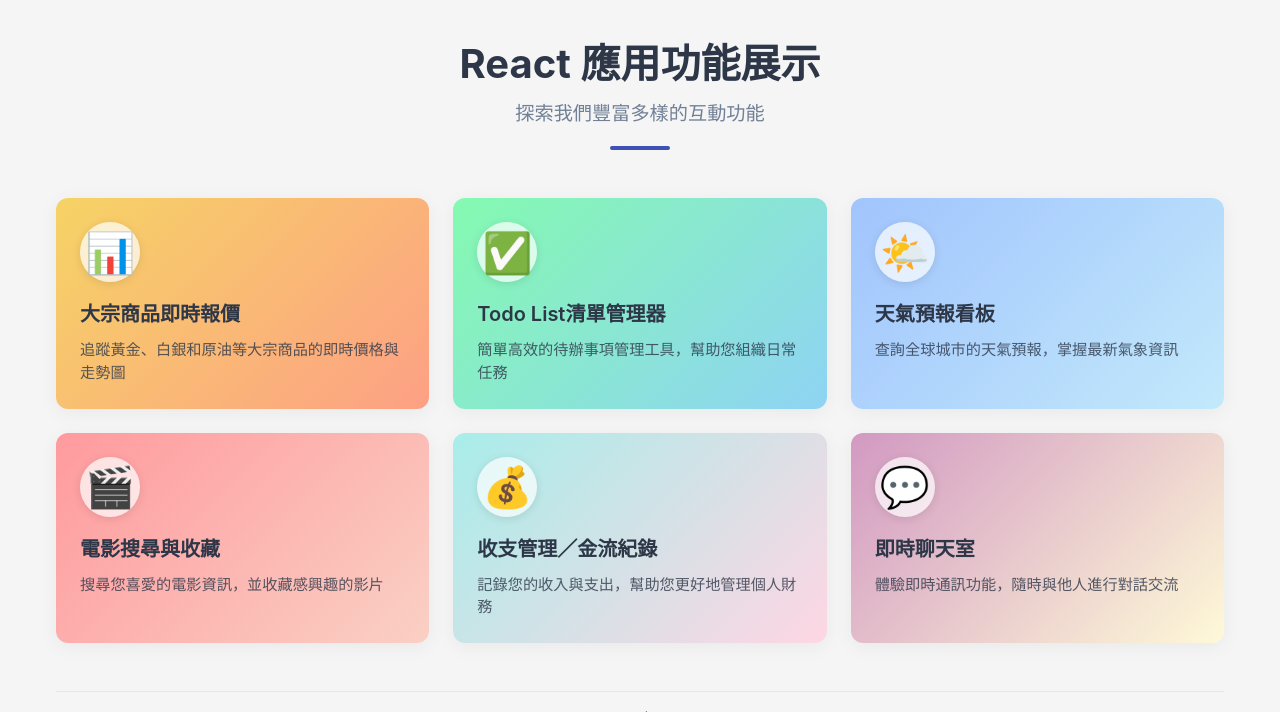
Test case: MovieSearch 功能測試 › 處理錯誤狀態
Click the link "🎬 電影搜尋與收藏 搜尋您喜愛的電影資訊，並收藏感興趣的影片" at [110, 487], box x1=56 y1=433 x2=429 y2=644
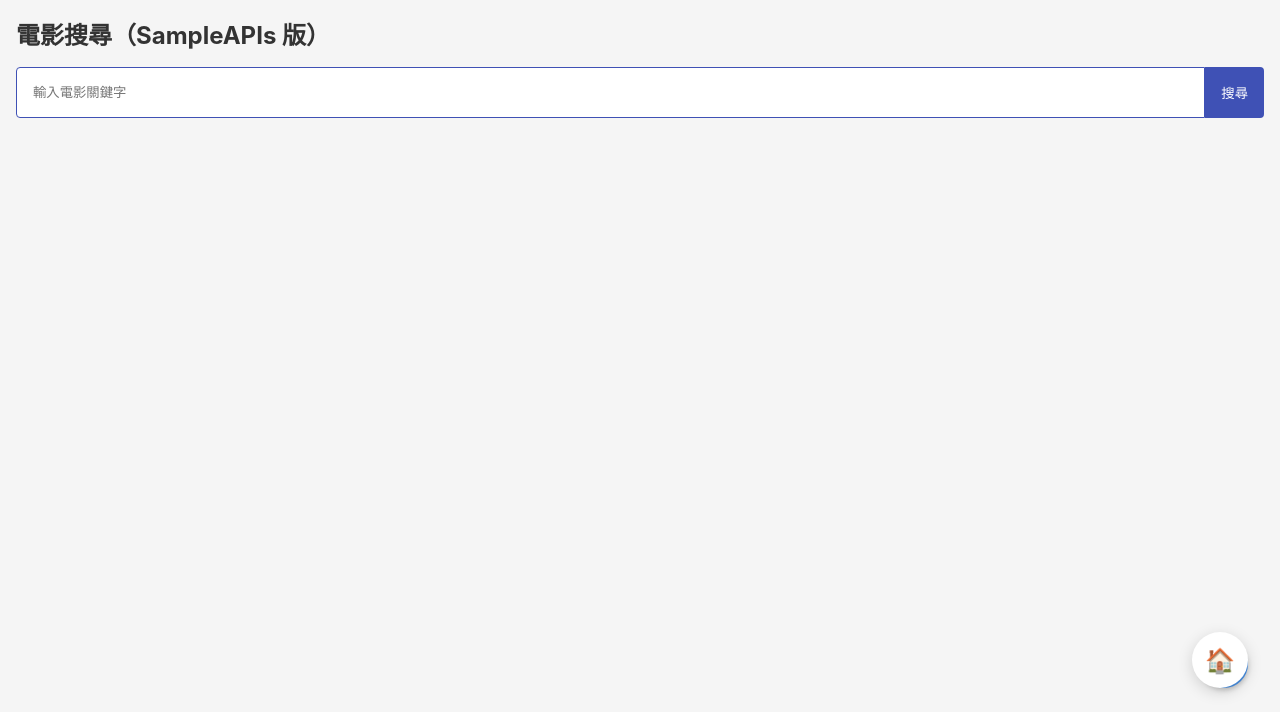
Type "Error Test" into the field with class "movie-search-input" at [611, 93], box x1=16 y1=67 x2=1205 y2=118
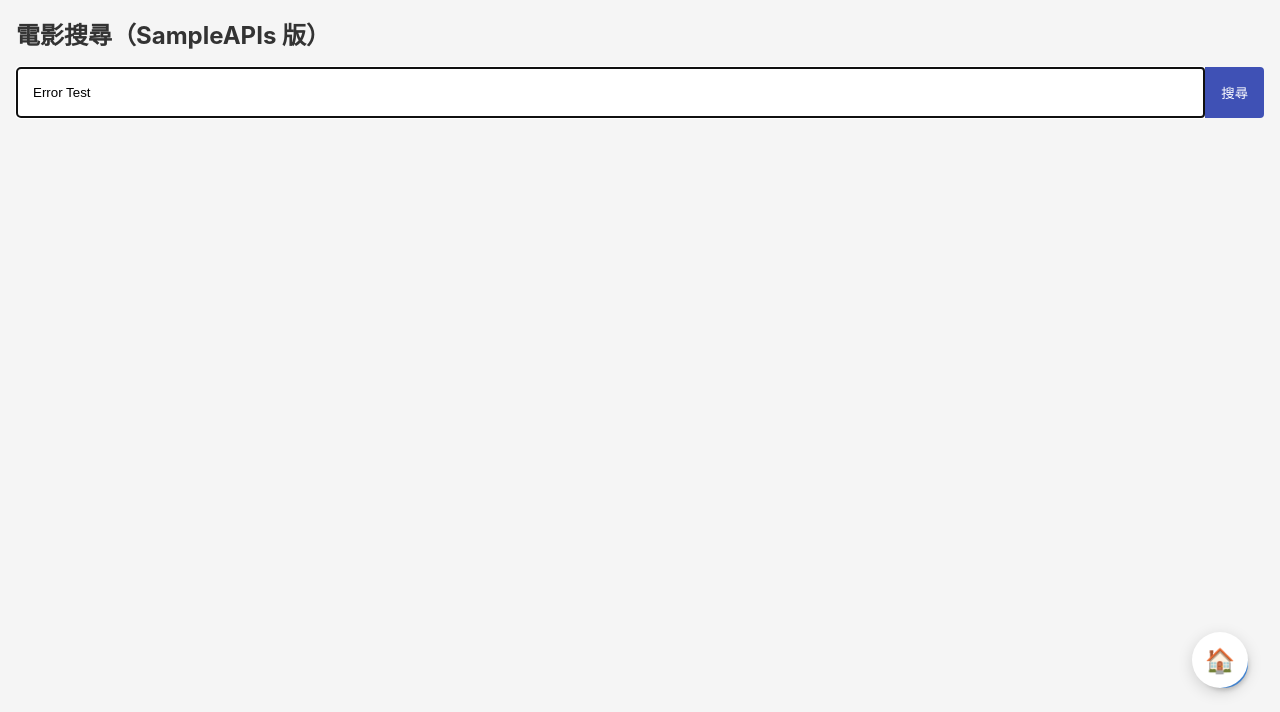
Click the button "搜尋" at [1235, 93], box x1=1205 y1=67 x2=1264 y2=118
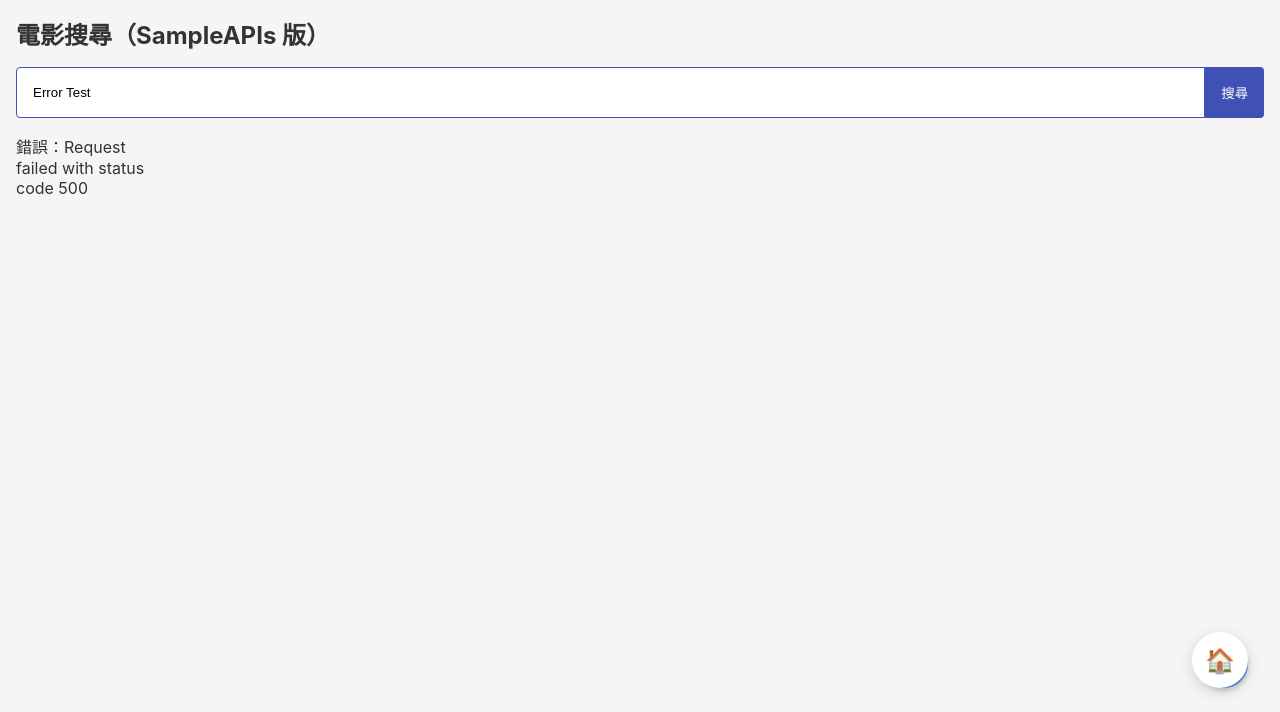
Check: the text "錯誤" is shown, box x1=16 y1=137 x2=64 y2=157
